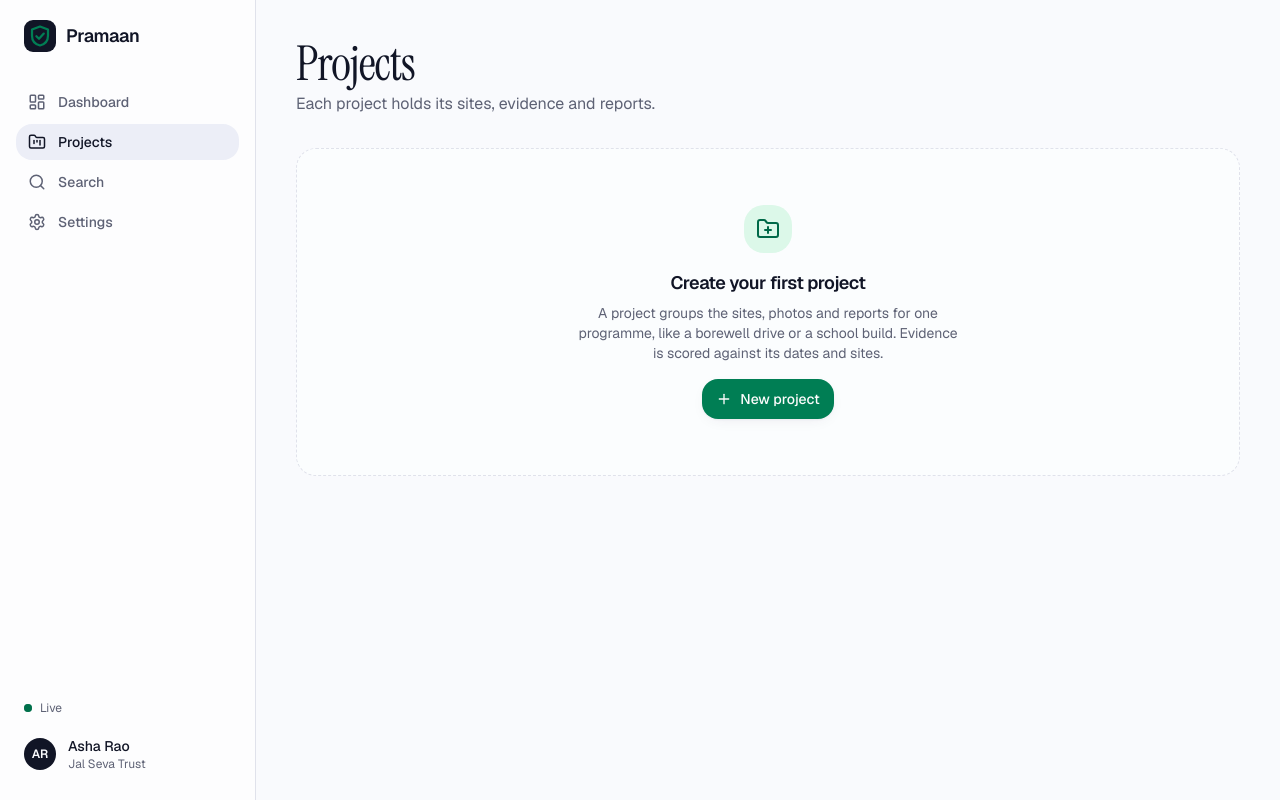
Scenario: projects › creates a project and refreshes the list
Click the button "New project".
click(768, 399)  # box [702,379,834,419]
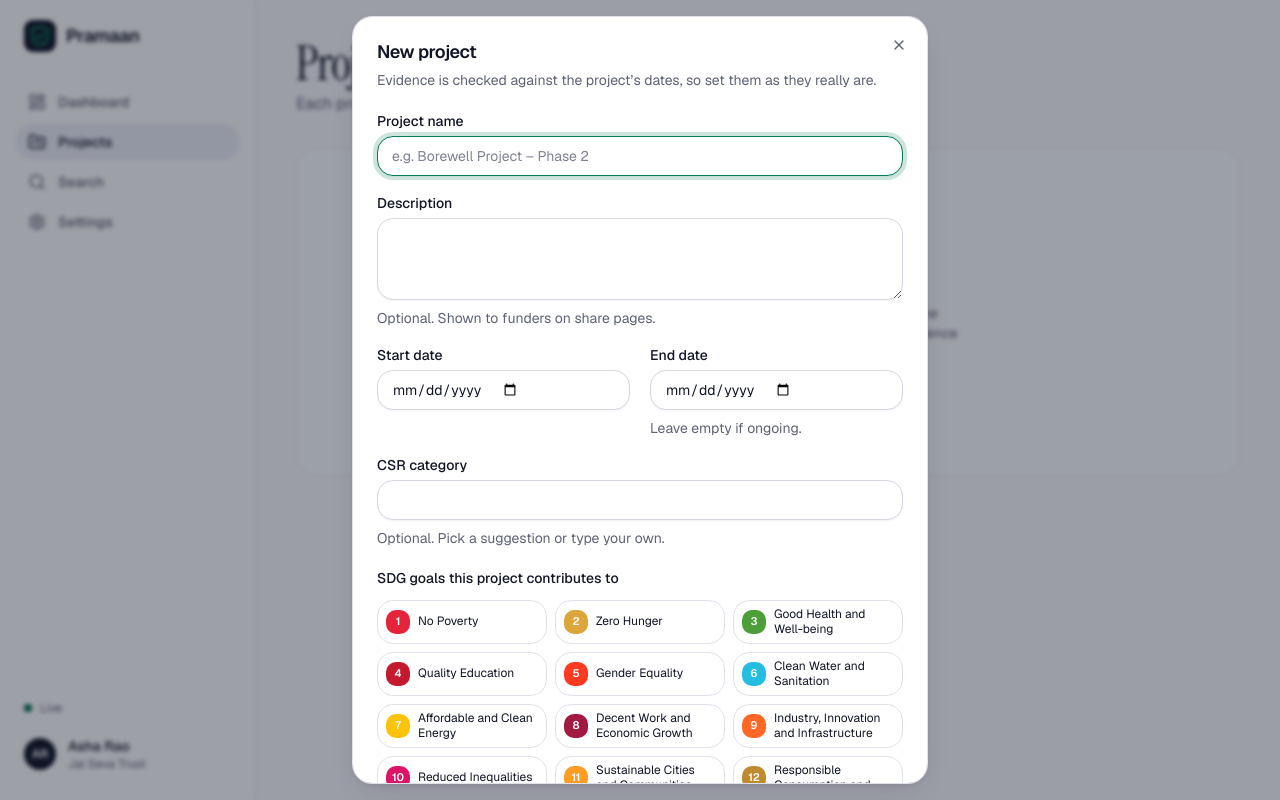
Type "Borewell Project – Phase 1" into the field labelled "Project name".
click(640, 156); type("Borewell Project – Phase 1")  # box [377,136,903,176]
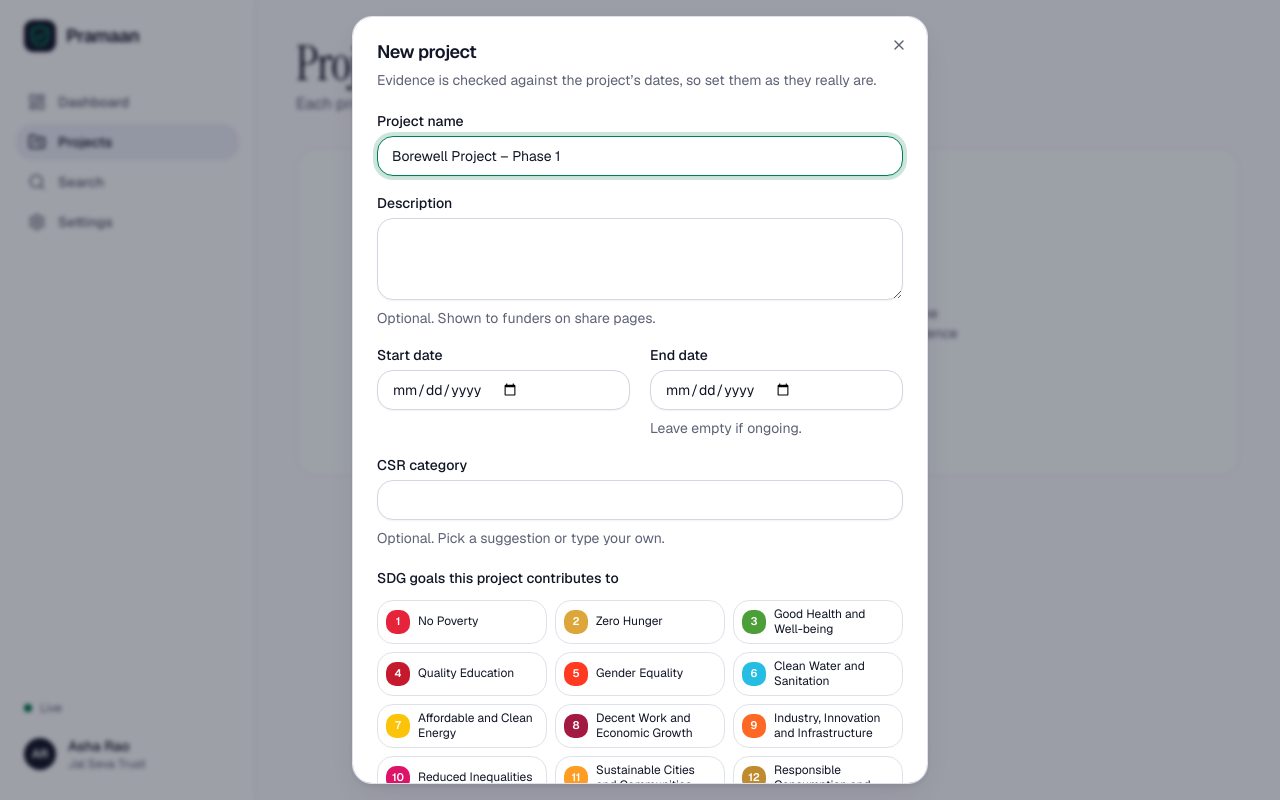
Type "2024-01-01" into the date field labelled "Start date".
click(504, 390); type("2024-01-01")  # box [377,370,630,410]
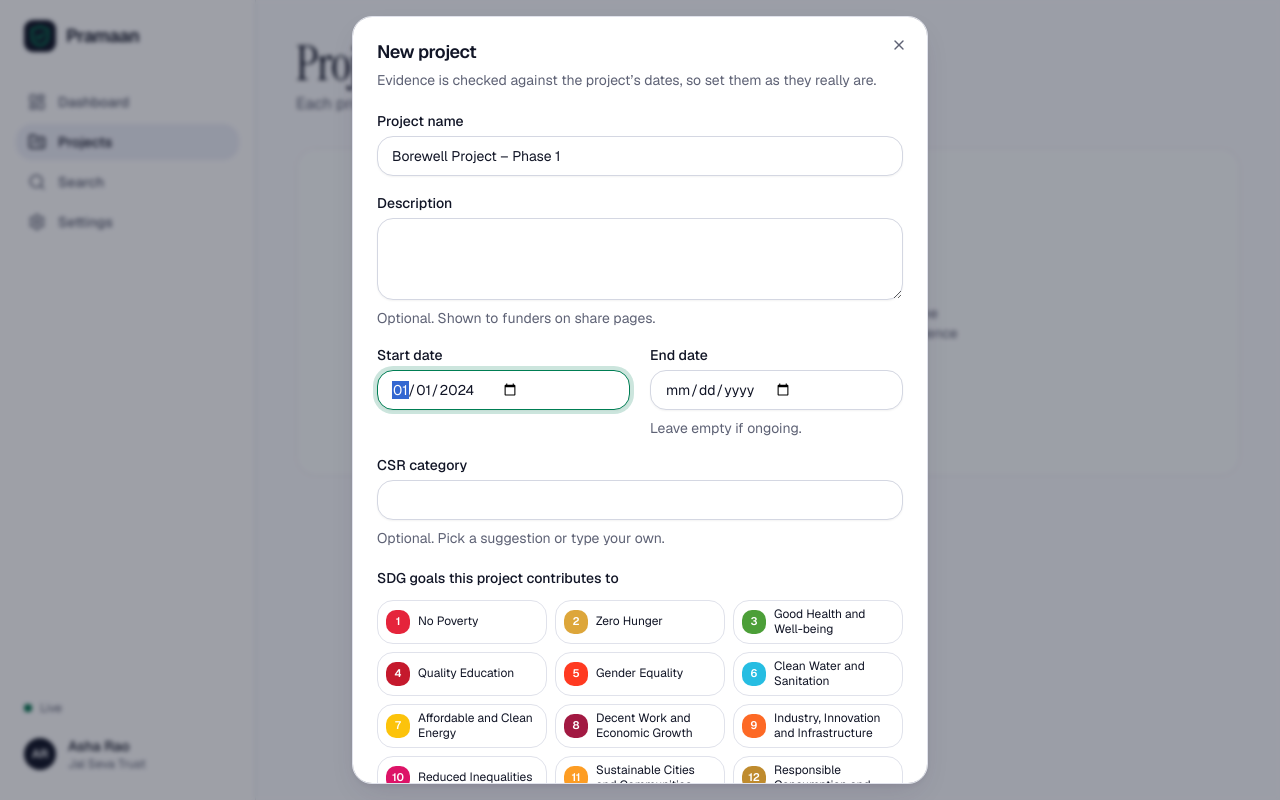
Click the button "6 Clean Water and Sanitation".
click(818, 674)  # box [733,652,903,696]
(page scrolled)
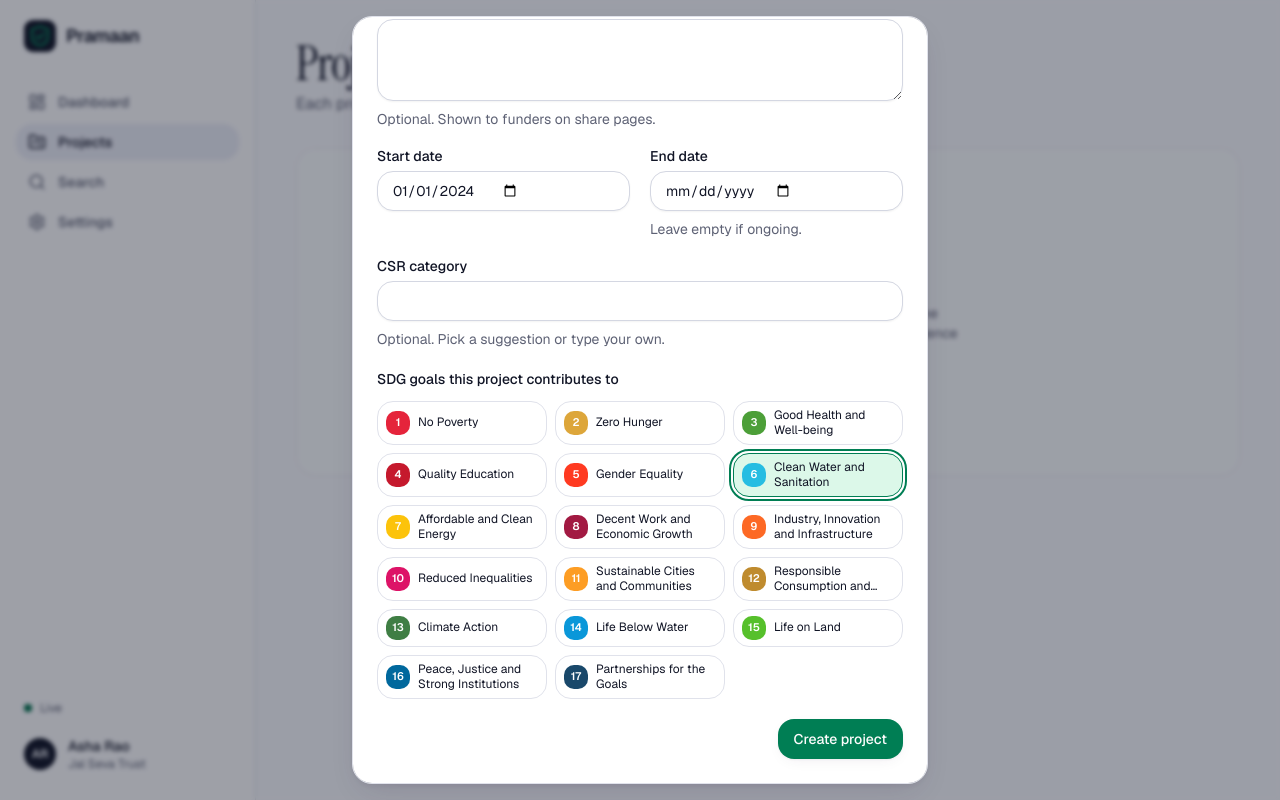
Click the button "Create project".
click(840, 738)  # box [778,718,903,758]
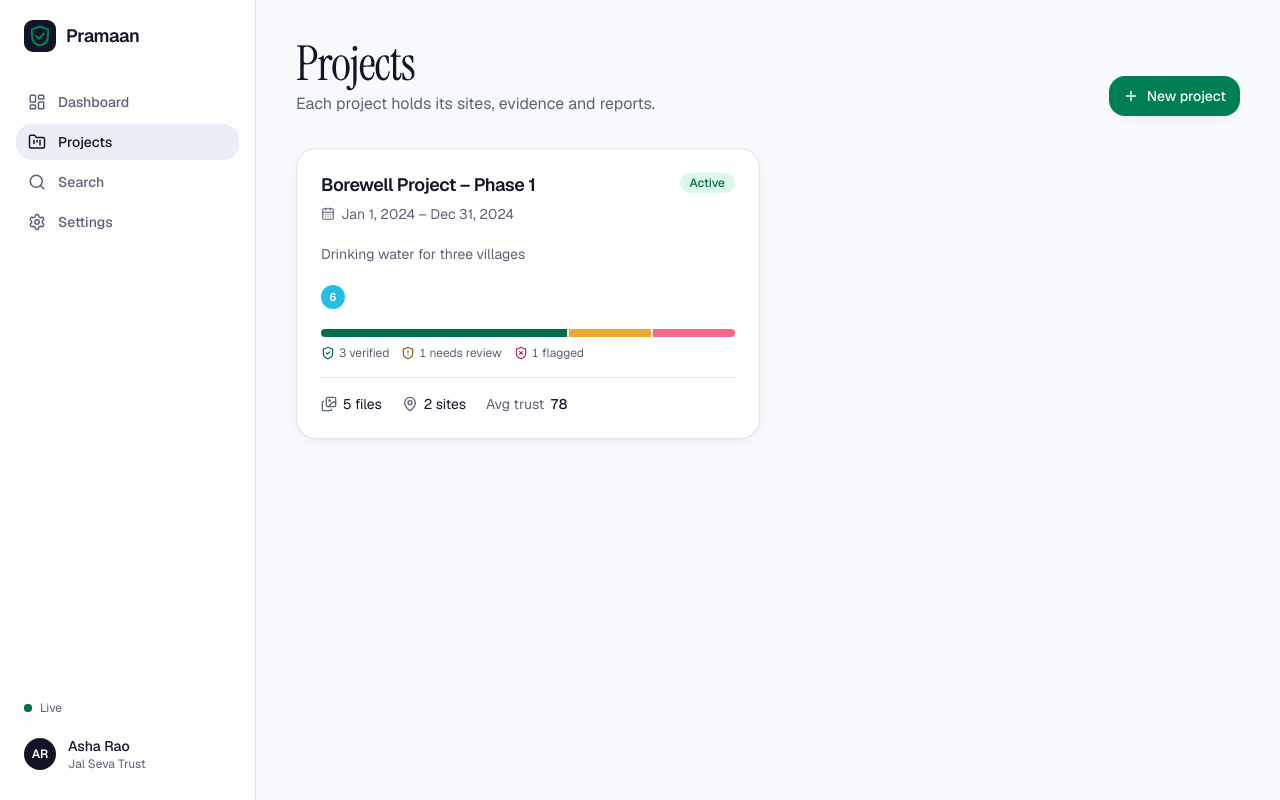
Expected: the heading "Borewell Project – Phase 1" is shown, [321,173,535,198]
